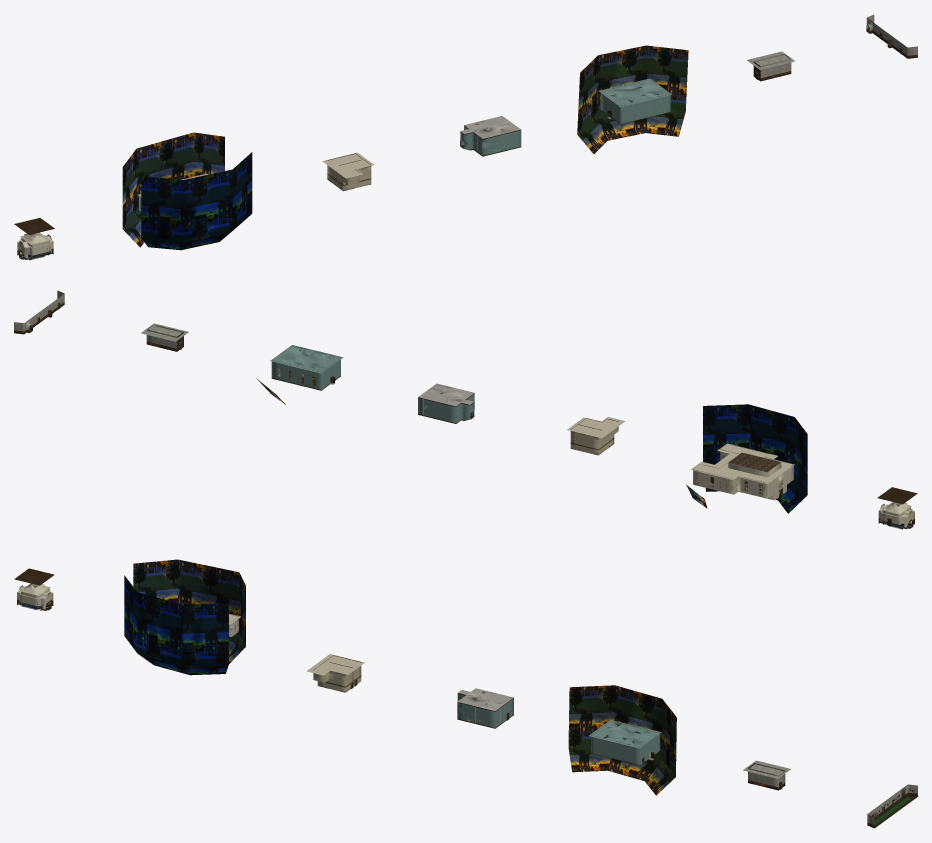
Rendered from episode1lvl1.glb.
The picture shows the model from 3 angles, top to bottom: view 1: azimuth 30°, elevation 25°; view 2: azimuth 150°, elevation 25°; view 3: azimuth 330°, elevation 25°; orthographic projection.
Parts seen in each view (by area): view 1: level1_lib_Dome1a, level1_lib_New_Wall1a, level1_mur_tapis00, level1_lib_Ciment1a, level1_Ciment1a, level1_lib_murhall1a; view 2: level1_lib_Dome1a, level1_lib_New_Wall1a, level1_lib_Ciment1a, level1_Bleu_mur, level1_mur_tapis00, level1_Ciment1a, level1_lib_murhall1a, level1_Bleu_panneau_bois3; view 3: level1_lib_Dome1a, level1_lib_New_Wall1a, level1_mur_tapis00, level1_lib_Ciment1a, level1_Ciment1a, level1_lib_murhall1a.
Boxes of the visible parts, x1,y1,x2,y2 form: level1_lib_Dome1a: (122, 45, 688, 250); level1_lib_New_Wall1a: (460, 78, 671, 156); level1_mur_tapis00: (747, 14, 917, 77); level1_lib_Ciment1a: (17, 152, 373, 248); level1_Ciment1a: (460, 116, 520, 138); level1_lib_murhall1a: (327, 153, 371, 187); level1_lib_Dome1a: (256, 378, 807, 513); level1_lib_New_Wall1a: (270, 345, 474, 423); level1_lib_Ciment1a: (567, 417, 914, 517); level1_Bleu_mur: (693, 444, 914, 524); level1_mur_tapis00: (14, 290, 188, 348); level1_Ciment1a: (418, 383, 474, 406); level1_lib_murhall1a: (570, 418, 618, 452); level1_Bleu_panneau_bois3: (728, 452, 780, 472); level1_lib_Dome1a: (124, 559, 676, 795); level1_lib_New_Wall1a: (457, 693, 661, 765); level1_mur_tapis00: (743, 760, 917, 825); level1_lib_Ciment1a: (17, 583, 364, 675); level1_Ciment1a: (457, 688, 513, 710); level1_lib_murhall1a: (313, 655, 361, 689).
Bounding box in the file's own units: 544 × 53.78 × 52.71.
Materials: 72 (70 with a texture image).
